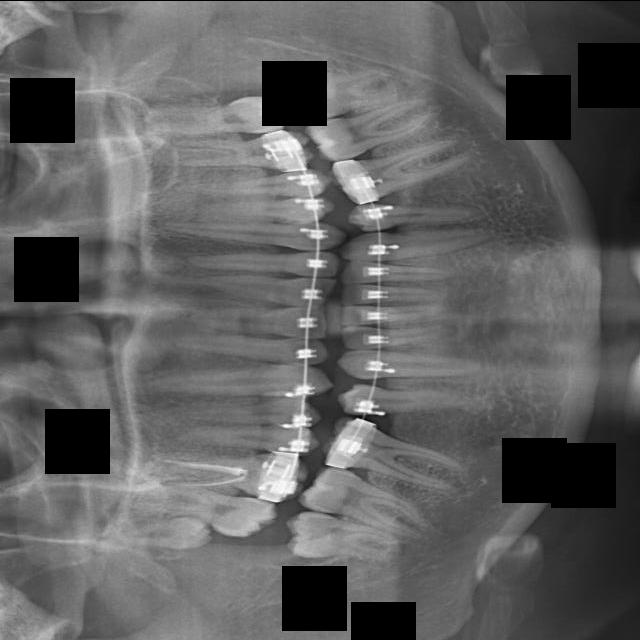3M ESPE Implant: (90, 516, 213, 549)
AGS Medikal Implant: (301, 89, 453, 168)
AMerOss Implant: (324, 132, 481, 210)
Amalgam filling: (133, 475, 281, 546)
Bicon Implant: (347, 195, 489, 231)
BioHorizons Implant: (337, 225, 505, 262)
BioLife Implant: (337, 257, 463, 283)
Biomet 3i Implant: (337, 282, 448, 305)
Blue Sky Bio Implant: (336, 296, 455, 326)
Camlog Implant: (340, 322, 462, 349)
Caries: (182, 250, 340, 280)
Composite filling: (335, 344, 489, 380)
Cowellmedi Implant: (335, 380, 485, 415)
DENTSPLY Implant: (152, 439, 313, 506)
Dentatus Implant: (317, 410, 469, 495)
Dentis Implant: (295, 458, 445, 545)
Dentium Implant: (284, 509, 404, 562)
Euroteknika Implant: (173, 420, 321, 455)
Filling: (179, 392, 322, 428)
Frontier Implant: (131, 362, 335, 397)
Hiossen Implant: (155, 221, 346, 250)
Implant: (184, 305, 329, 339)
Implant Direct: (160, 331, 332, 366)
Keystone Dental Implant: (194, 271, 338, 308)
MIS Implant: (191, 194, 336, 232)
Mandible: (179, 166, 331, 209)
Maxilla: (171, 127, 315, 180)
Megagen Implant: (151, 118, 190, 121)
Neoss Implant: (289, 62, 404, 121)
